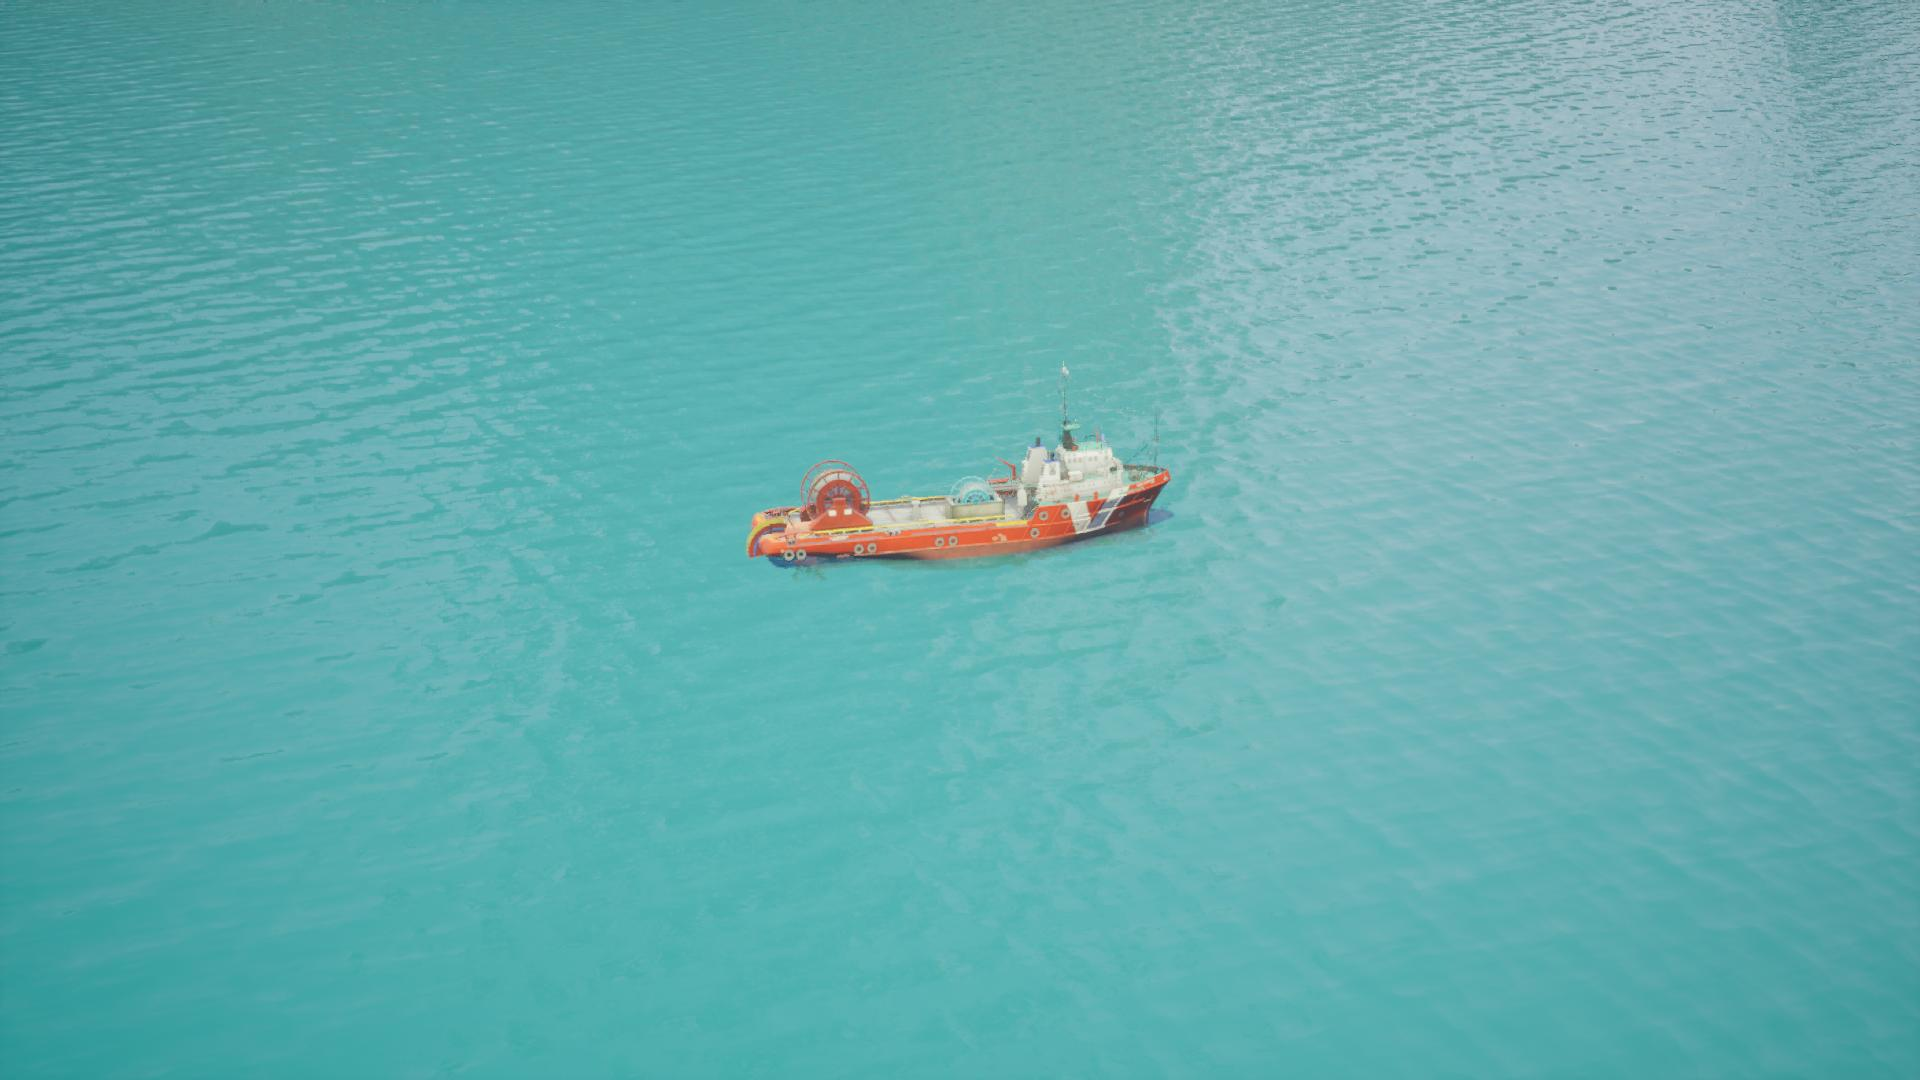Tug Boat: (745, 433, 1183, 567)
